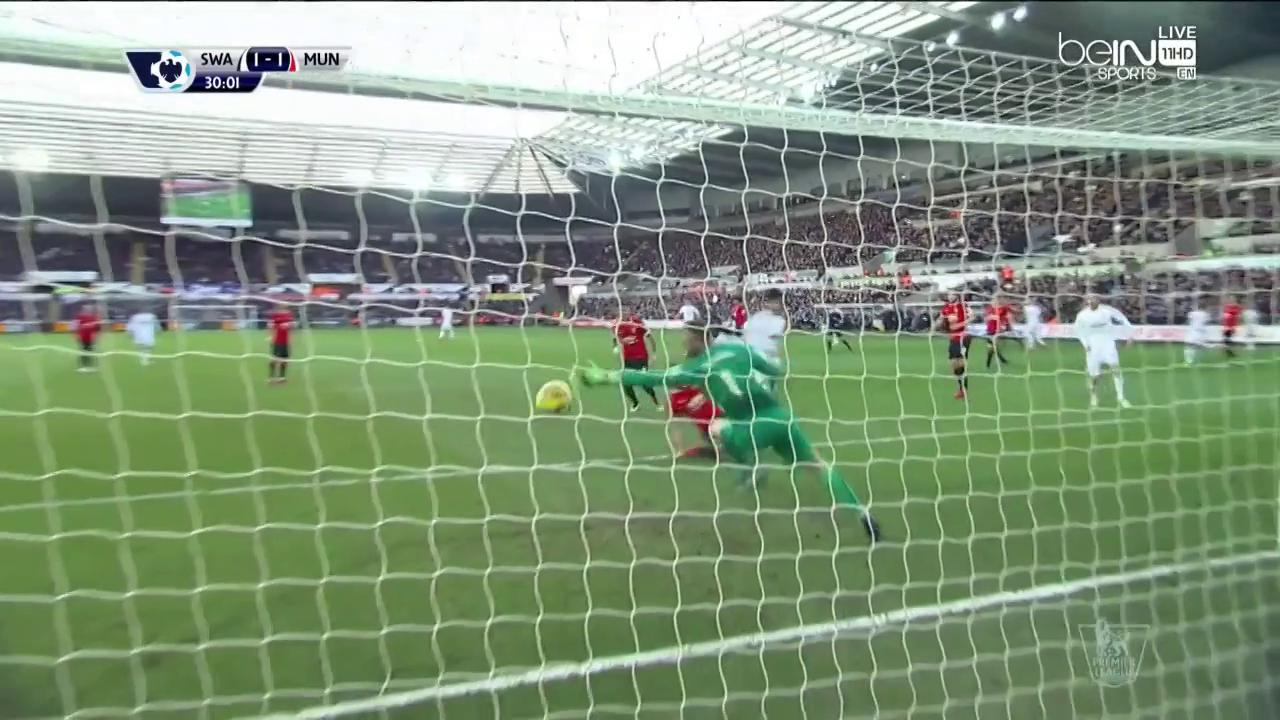football: (535, 378, 572, 415)
